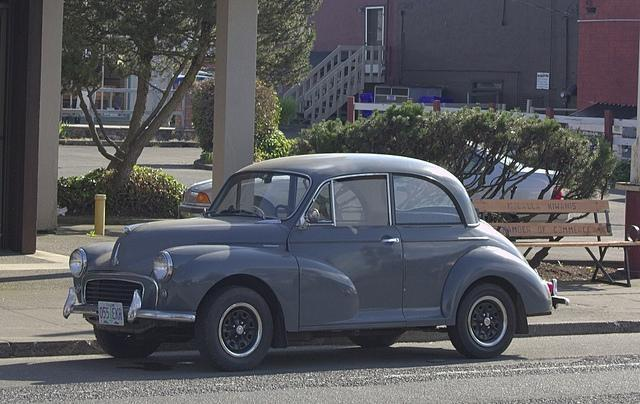car: (63, 152, 570, 372), (459, 138, 569, 225)
